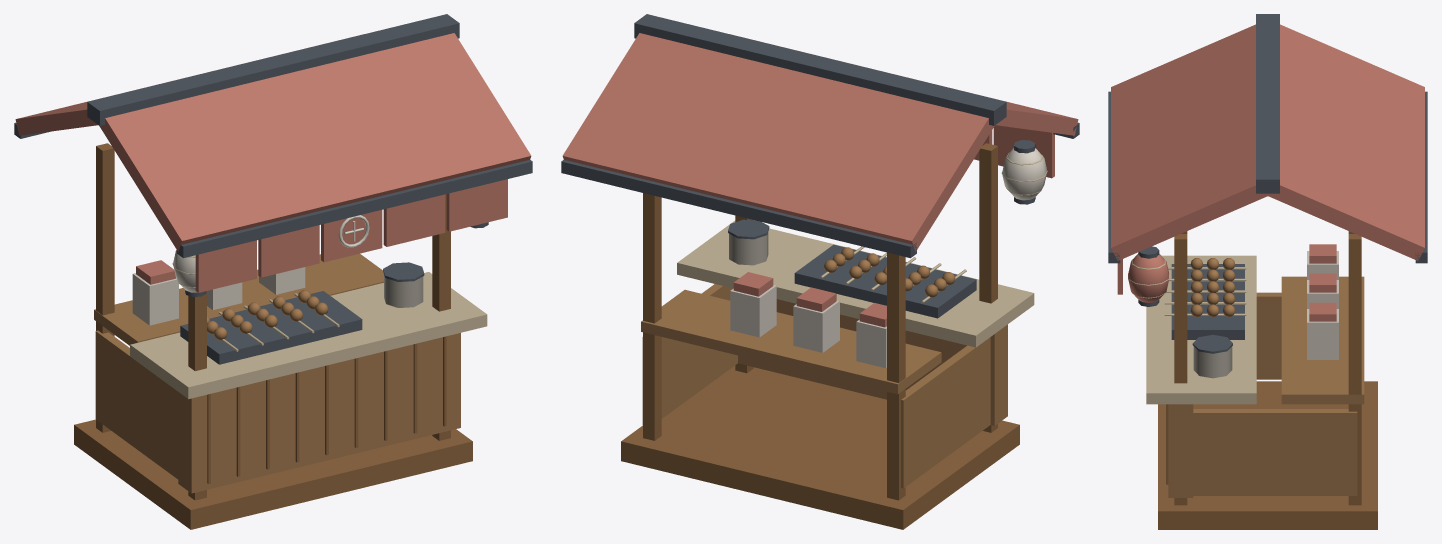
The model's file is komachi-yatai-food.glb.
3 renders of one model, left to right at view 1: azimuth 30°, elevation 25°; view 2: azimuth 150°, elevation 25°; view 3: azimuth 270°, elevation 25°, orthographic. The views are drawn at different scales.
Visible parts, largest first — view 1: Yatai_Frame_Canopy_And_Stock; view 2: Yatai_Frame_Canopy_And_Stock; view 3: Yatai_Frame_Canopy_And_Stock.
Boxes of the visible parts, x1,y1,x2,y2 form: Yatai_Frame_Canopy_And_Stock: (14,14,532,529); Yatai_Frame_Canopy_And_Stock: (561,14,1079,529); Yatai_Frame_Canopy_And_Stock: (1108,14,1427,529).
Bounding box in the file's own units: 0.855 × 0.886 × 0.696.
